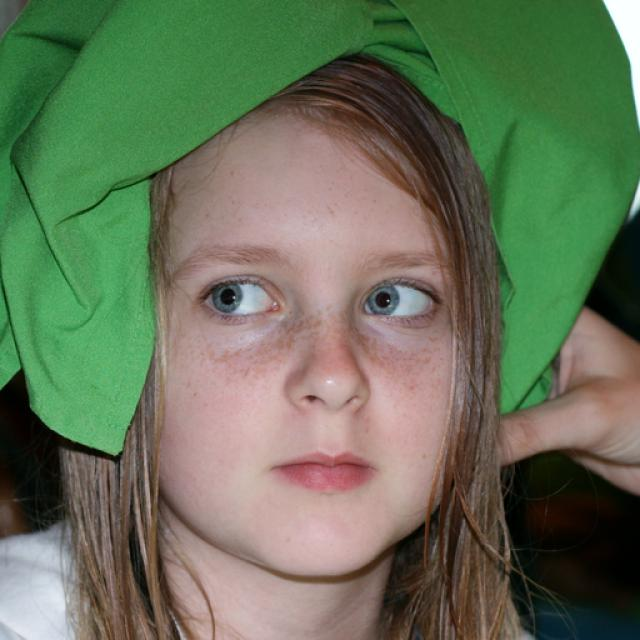Pigmentation: (204, 303, 434, 384)
